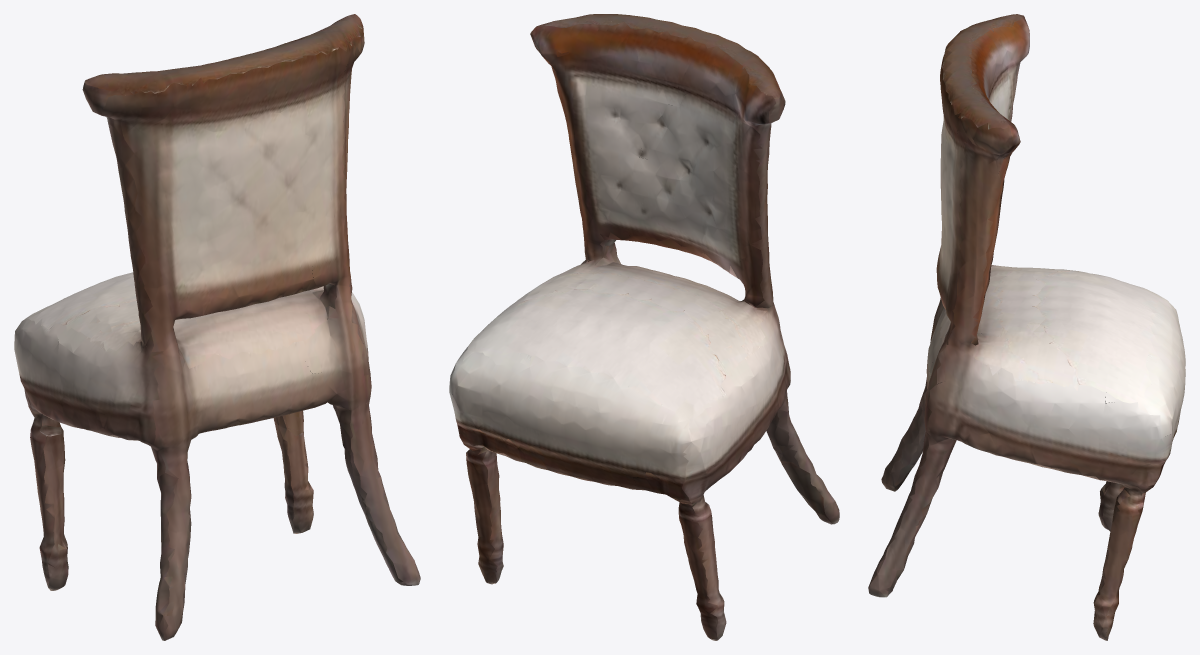
The picture shows the model from 3 angles, left to right: view 1: azimuth 30°, elevation 25°; view 2: azimuth 150°, elevation 25°; view 3: azimuth 270°, elevation 25°; orthographic projection. The views are drawn at different scales.
Parts seen in each view (by area): view 1: world; view 2: world; view 3: world.
Boxes of the visible parts, x1,y1,x2,y2 form: world: (14, 14, 420, 640); world: (449, 14, 839, 640); world: (868, 14, 1185, 640).
Bounding box in the file's own units: 0.4977 × 0.9512 × 0.523.
Materials: 1 (1 with a texture image).
